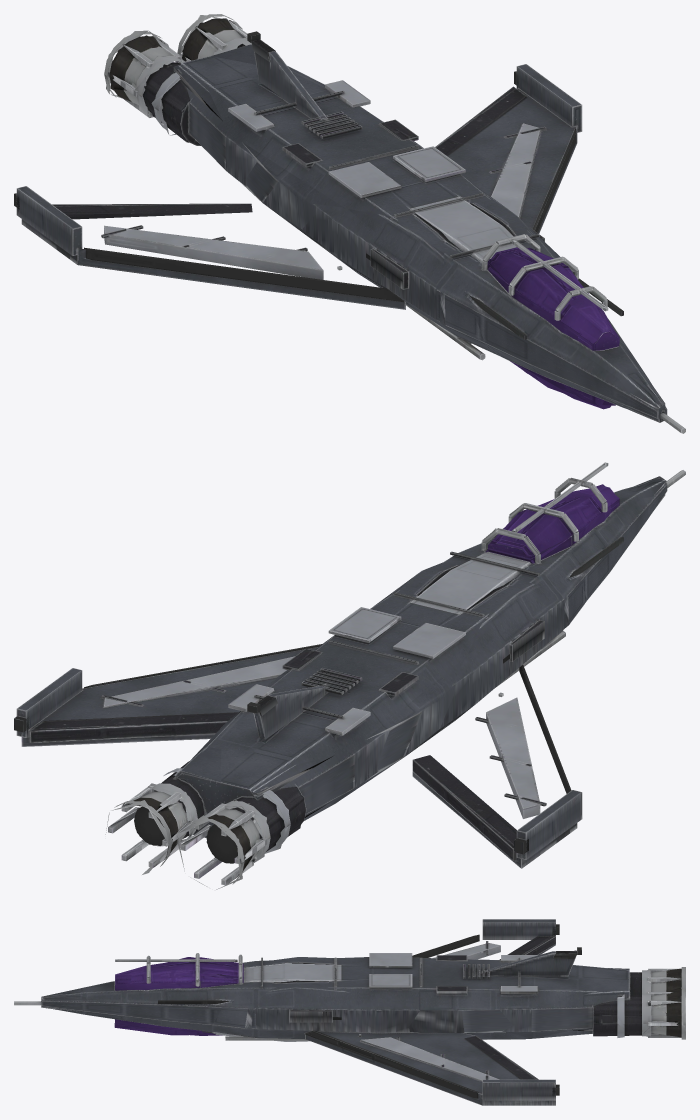
Rendered from sd_ship_hayalet.glb.
3 renders of one model, top to bottom at view 1: azimuth 30°, elevation 25°; view 2: azimuth 150°, elevation 25°; view 3: azimuth 270°, elevation 25°, orthographic. The views are drawn at different scales.
Parts seen in each view (by area): view 1: LOD0_body, LOD1_body; view 2: LOD0_body, LOD1_body; view 3: LOD0_body, LOD1_body.
Boxes of the visible parts, x1,y1,x2,y2 form: LOD0_body: (14,14,685,433); LOD1_body: (66,15,665,422); LOD0_body: (14,462,685,885); LOD1_body: (22,476,666,889); LOD0_body: (14,919,685,1105); LOD1_body: (38,944,685,1105).
Size of the model in its own units: 0.5761 by 0.1399 by 1.
1 material, 1 textured.
